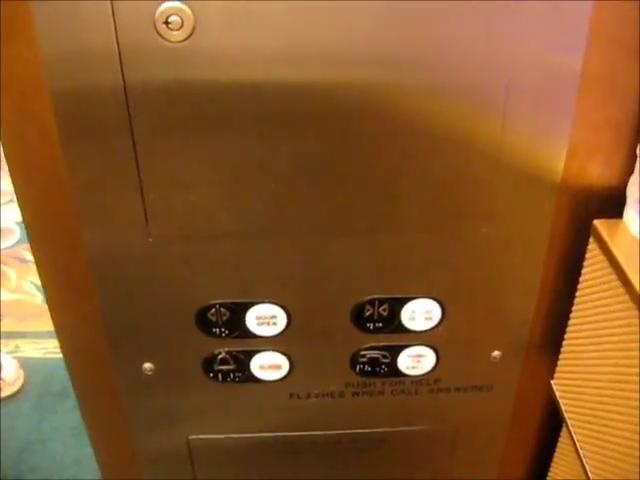alarm: (200, 348, 294, 384)
call: (349, 340, 441, 379)
close: (350, 294, 447, 335)
keyhole: (151, 1, 198, 45)
open: (195, 300, 292, 341)
